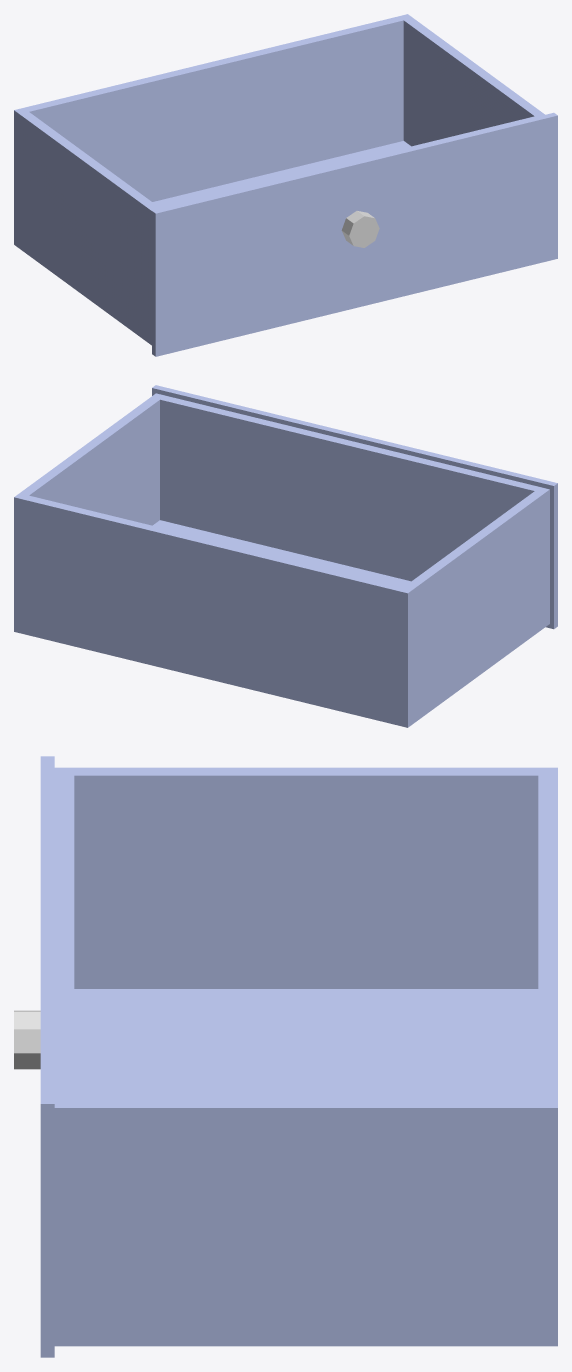
File: K_DrawerBlueDoor2.glb
The picture shows the model from 3 angles, top to bottom: view 1: azimuth 30°, elevation 25°; view 2: azimuth 150°, elevation 25°; view 3: azimuth 270°, elevation 25°; orthographic projection. The views are drawn at different scales.
Parts seen in each view (by area): view 1: Kitchen_DrawerBigDoor2; view 2: Kitchen_DrawerBigDoor2; view 3: Kitchen_DrawerBigDoor2.
Part boxes in pixels (<box>): Kitchen_DrawerBigDoor2: <box>14,14,557,356</box>; Kitchen_DrawerBigDoor2: <box>14,385,557,727</box>; Kitchen_DrawerBigDoor2: <box>14,756,557,1357</box>.
Size of the model in its own units: 1.4 by 0.4781 by 0.9285.
